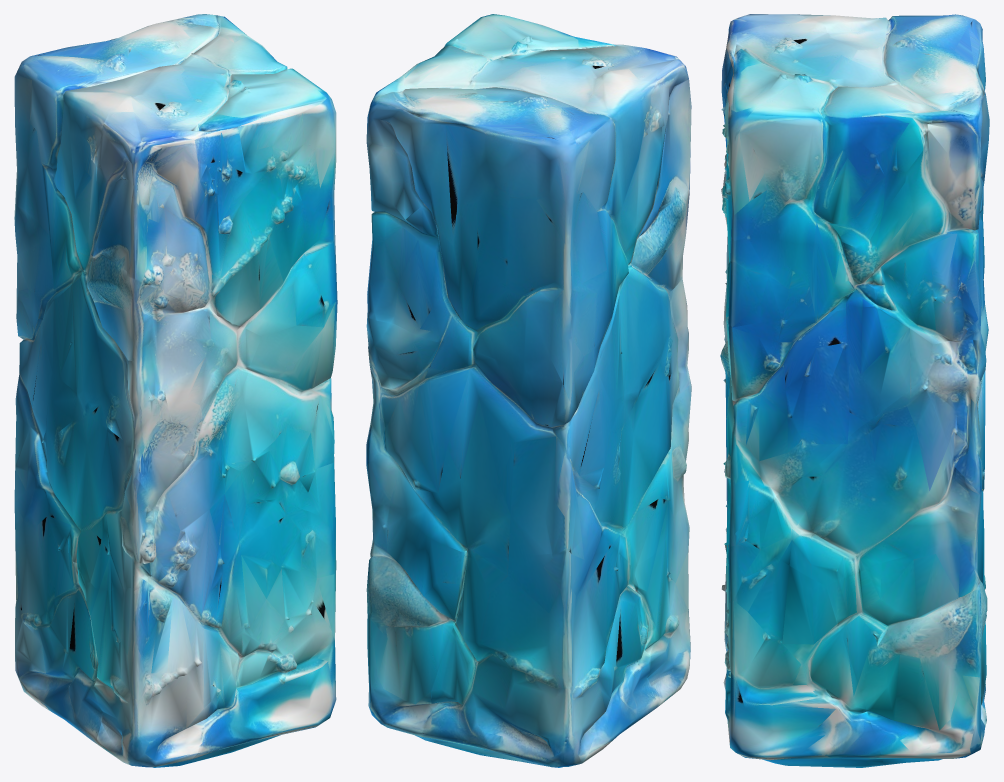
Rendered from buz_dikey_kup_parcali.glb.
The picture shows the model from 3 angles, left to right: view 1: azimuth 30°, elevation 25°; view 2: azimuth 150°, elevation 25°; view 3: azimuth 270°, elevation 25°; orthographic projection. The views are drawn at different scales.
Visible parts, largest first — view 1: p08, p02, p10, p01, p11, p00, p04, p09, p06, p05; view 2: p01, p05, p06, p03, p00, p10, p11, p08, p02; view 3: p11, p01, p09, p03, p04, p07, p02, p05, p10, p08.
Boxes of the visible parts, x1,y1,x2,y2 form: p08: [85, 495, 310, 767]; p02: [96, 120, 337, 336]; p10: [42, 245, 261, 460]; p01: [14, 14, 236, 318]; p11: [109, 27, 336, 218]; p00: [36, 372, 241, 590]; p04: [167, 504, 336, 766]; p09: [221, 303, 337, 511]; p06: [14, 465, 102, 744]; p05: [15, 298, 51, 477]; p01: [366, 74, 663, 383]; p05: [366, 317, 610, 558]; p06: [422, 529, 660, 767]; p03: [366, 500, 468, 743]; p00: [595, 372, 691, 570]; p10: [595, 190, 689, 402]; p11: [392, 14, 676, 83]; p08: [634, 506, 690, 704]; p02: [651, 57, 691, 211]; p11: [722, 14, 933, 246]; p01: [797, 14, 989, 344]; p09: [723, 306, 932, 533]; p03: [826, 519, 987, 765]; p04: [723, 532, 883, 767]; p07: [734, 379, 978, 585]; p02: [721, 14, 875, 327]; p05: [923, 277, 988, 522]; p10: [720, 237, 730, 396]; p08: [721, 458, 730, 679].
Size of the model in its own units: 0.3406 by 0.9818 by 0.356.
2 materials, 1 textured.
